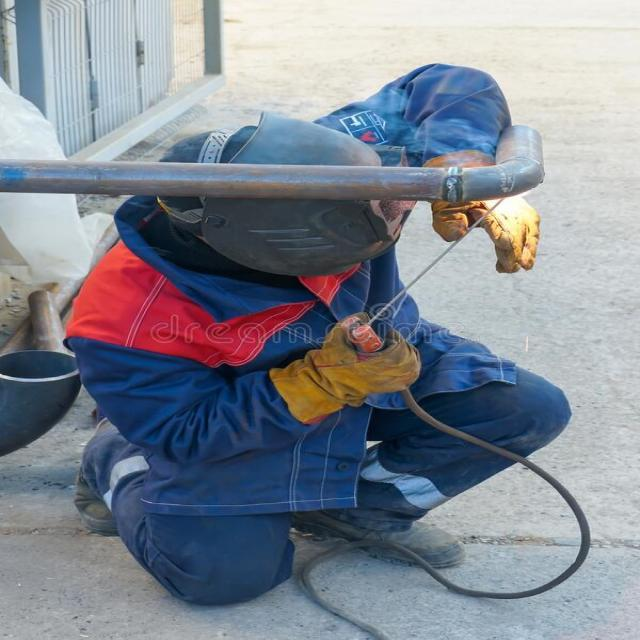with_helmet: (130, 106, 408, 287)
